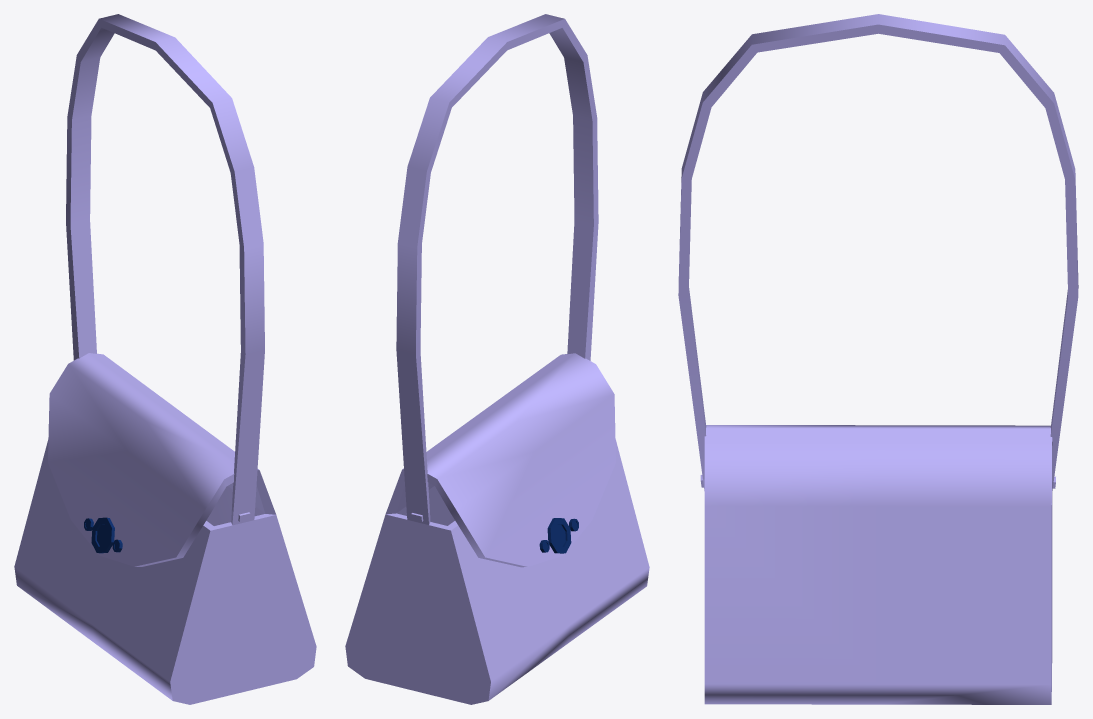
The model's file is SM_Purse.fbx.
3 renders of one model, left to right at view 1: azimuth 30°, elevation 25°; view 2: azimuth 150°, elevation 25°; view 3: azimuth 270°, elevation 25°, orthographic. The views are drawn at different scales.
Parts seen in each view (by area): view 1: SM_Purse; view 2: SM_Purse; view 3: SM_Purse.
Boxes of the visible parts, box(x1,y1,x2,y2) form: SM_Purse: box(14, 14, 316, 704); SM_Purse: box(345, 14, 649, 704); SM_Purse: box(678, 14, 1078, 704).
Size of the model in its own units: 11.76 by 25.05 by 45.34.
Materials: 1 (1 with a texture image).
